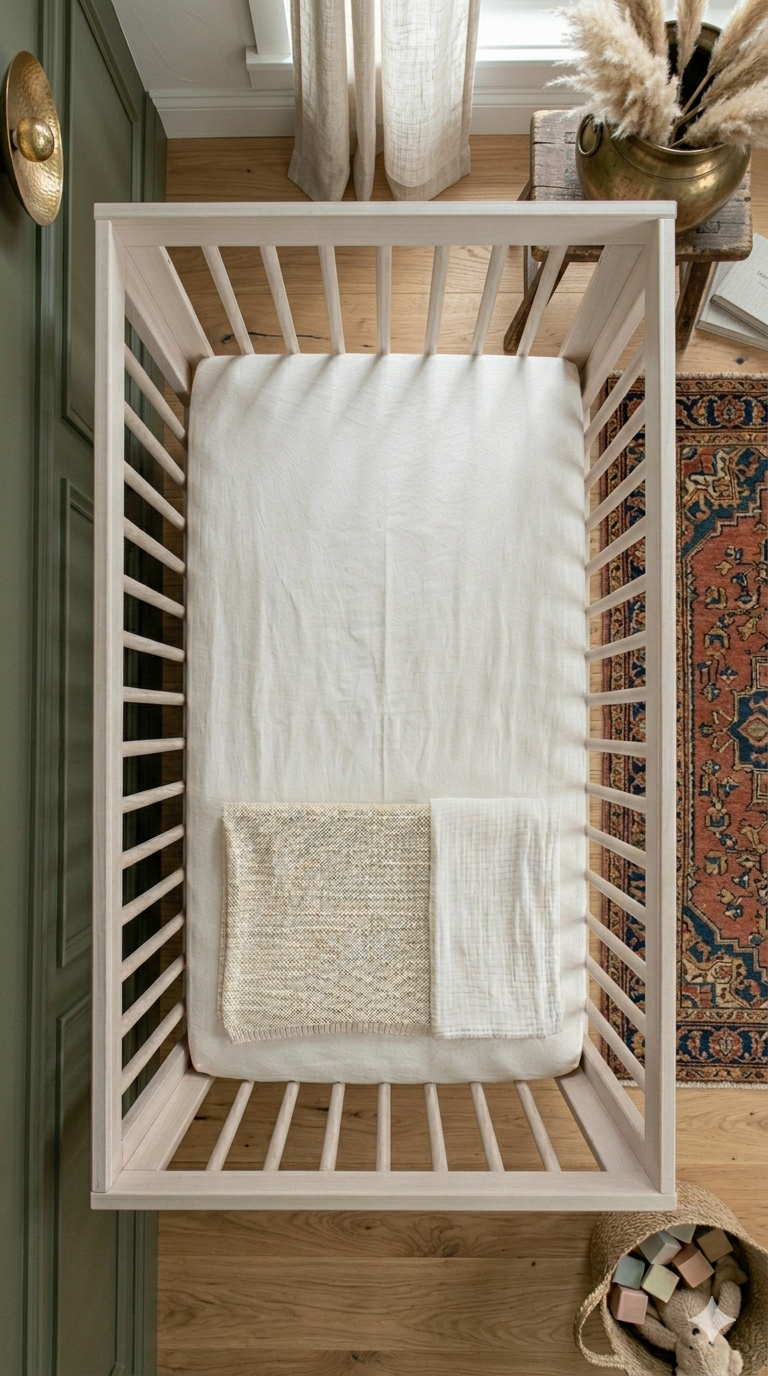crib: (170, 242, 604, 1170)
